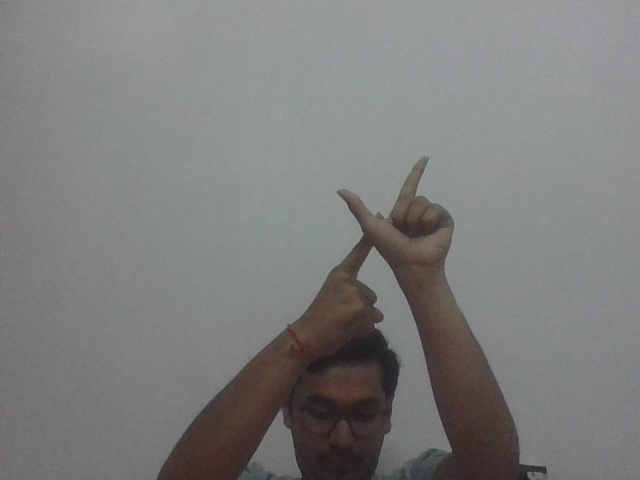Y: (324, 151, 455, 341)
